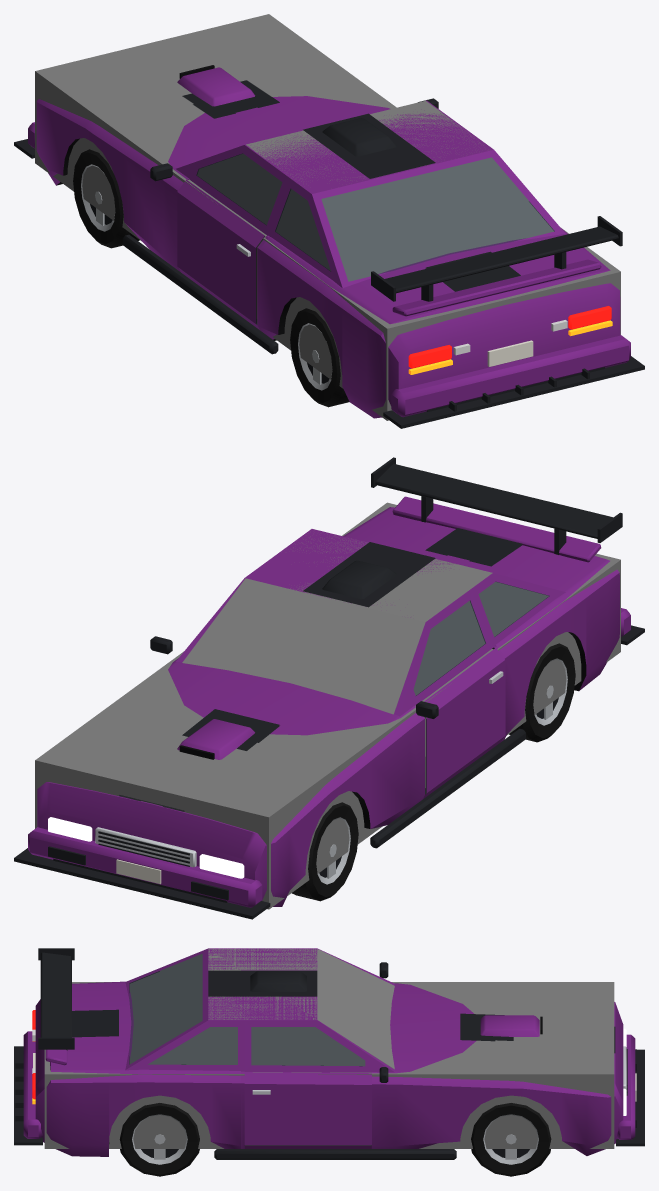
Rendered from muscle.glb.
The picture shows the model from 3 angles, top to bottom: view 1: azimuth 30°, elevation 25°; view 2: azimuth 150°, elevation 25°; view 3: azimuth 270°, elevation 25°; orthographic projection. The views are drawn at different scales.
Parts seen in each view (by area): view 1: muscle, muscle_Body, muscle_Cabin, muscle_Door_FL, muscle_Wheel_RL, muscle_Wheel_FL; view 2: muscle, muscle_Body, muscle_Door_FL, muscle_Cabin, muscle_Wheel_FL, muscle_Wheel_RL; view 3: muscle, muscle_Body, muscle_Cabin, muscle_Door_FR, muscle_Wheel_FR, muscle_Wheel_RR.
Boxes of the visible parts, x1=… form: muscle: x1=14, y1=14, x2=644, y2=428; muscle_Body: x1=36, y1=96, x2=620, y2=418; muscle_Cabin: x1=176, y1=100, x2=565, y2=288; muscle_Door_FL: x1=177, y1=145, x2=288, y2=323; muscle_Wheel_RL: x1=290, y1=308, x2=349, y2=407; muscle_Wheel_FL: x1=73, y1=149, x2=139, y2=248; muscle: x1=14, y1=457, x2=644, y2=919; muscle_Body: x1=37, y1=507, x2=619, y2=906; muscle_Door_FL: x1=408, y1=590, x2=505, y2=792; muscle_Cabin: x1=176, y1=529, x2=565, y2=716; muscle_Wheel_FL: x1=292, y1=802, x2=358, y2=901; muscle_Wheel_RL: x1=509, y1=643, x2=575, y2=742; muscle: x1=14, y1=948, x2=644, y2=1159; muscle_Body: x1=32, y1=962, x2=626, y2=1156; muscle_Cabin: x1=125, y1=948, x2=394, y2=1072; muscle_Door_FR: x1=244, y1=1020, x2=371, y2=1145; muscle_Wheel_FR: x1=471, y1=1103, x2=551, y2=1176; muscle_Wheel_RR: x1=119, y1=1103, x2=199, y2=1176.
Size of what is drawn, in the model's own units: 2.2 by 1.41 by 5.21.
